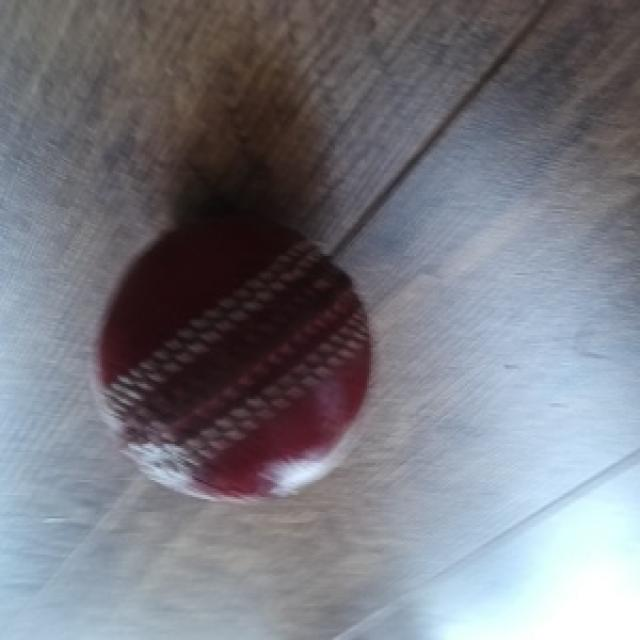ball: (90, 213, 375, 506)
